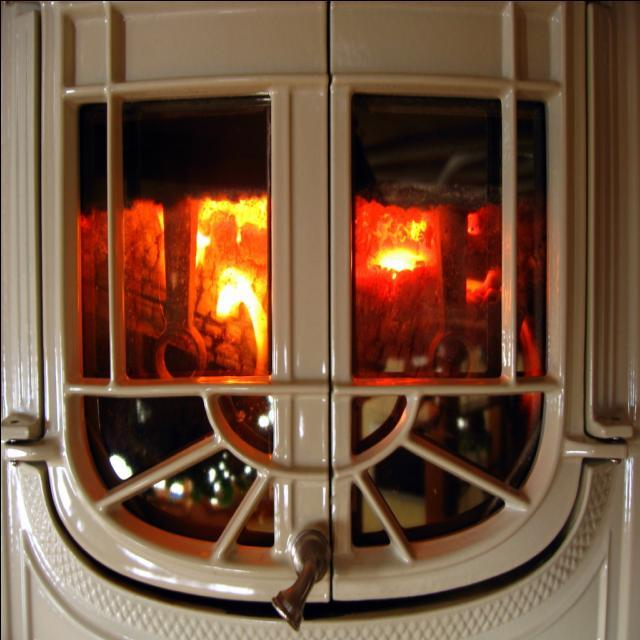Fire: (105, 175, 505, 374)
